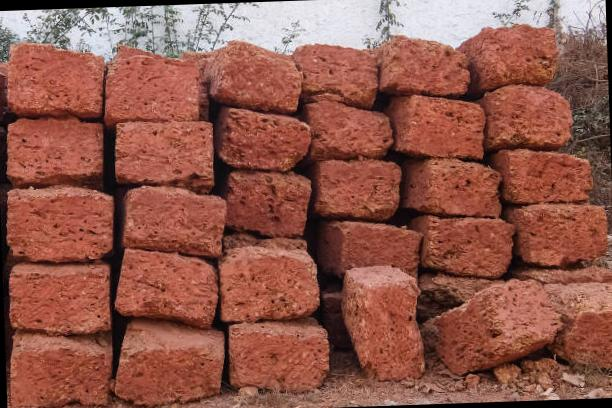brick: (113, 326, 226, 407), (112, 246, 218, 328), (5, 186, 116, 262), (122, 182, 228, 260), (5, 40, 105, 118), (219, 249, 319, 322), (228, 324, 330, 394), (103, 52, 201, 124), (114, 118, 214, 188), (5, 115, 104, 185), (214, 36, 303, 113), (8, 268, 110, 335), (9, 343, 113, 408), (364, 276, 424, 382), (218, 106, 312, 172), (223, 169, 312, 237), (425, 213, 516, 278), (483, 278, 563, 350), (295, 39, 378, 108), (404, 93, 486, 160), (306, 98, 393, 159), (492, 82, 572, 148), (316, 157, 402, 218), (388, 32, 469, 96), (526, 202, 608, 265), (337, 220, 422, 280), (508, 146, 592, 204), (478, 21, 557, 82), (428, 159, 502, 218), (563, 309, 612, 372)
